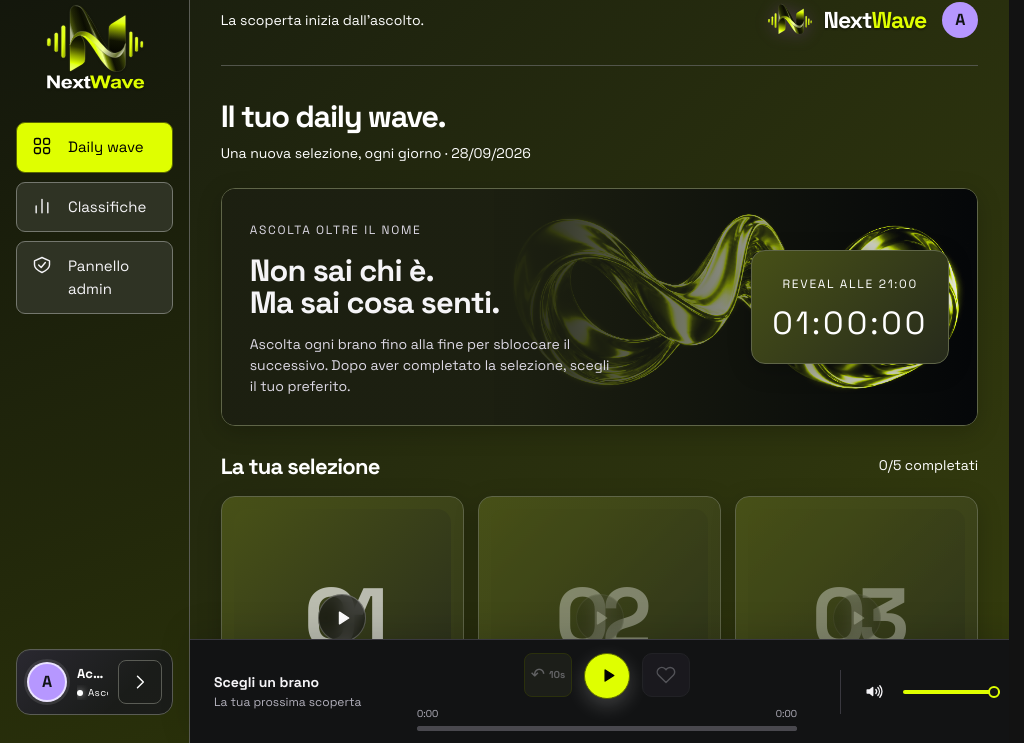
Test case: account cloud › elimina una candidatura senza audio solo dopo motivo e conferma
Expected: the navigation bar named "Navigazione principale" is shown, [16,122,173,314]
Expected: the heading "La tua selezione" is shown, [221,454,380,478]
Click the link "Pannello admin" at (94, 278), box [16,241,173,314]
(page scrolled)
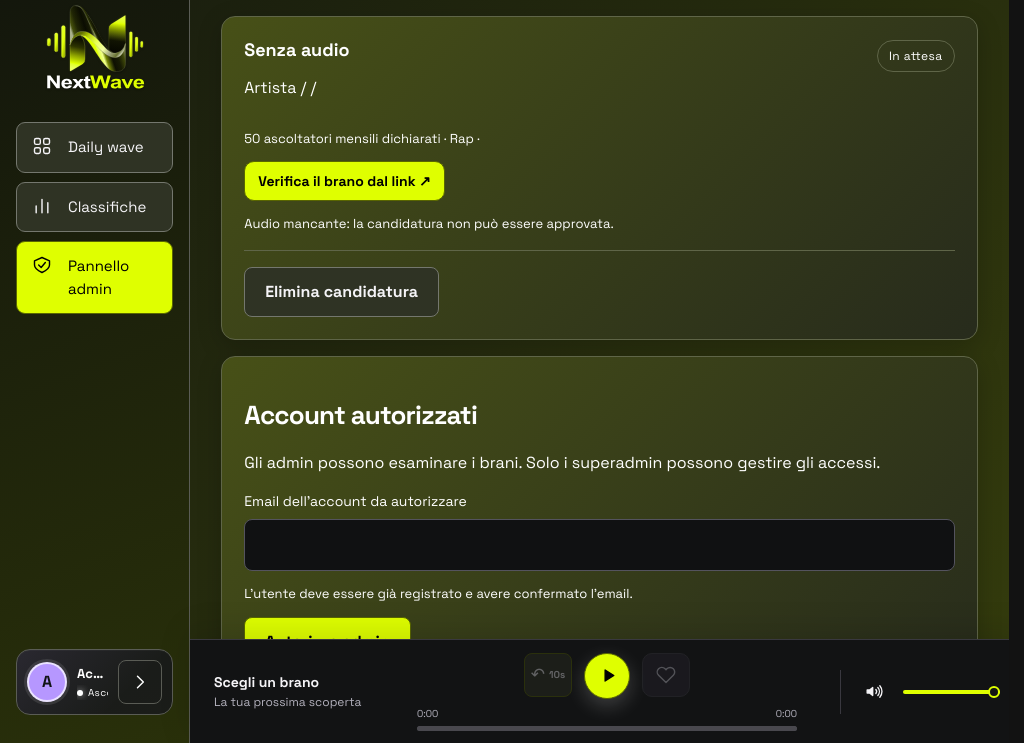
Expected: the text "Audio mancante: la candidatura non può essere approvata." is shown, [244,215,614,232]
Click the button "Elimina candidatura" at (342, 292), box [244,267,439,317]
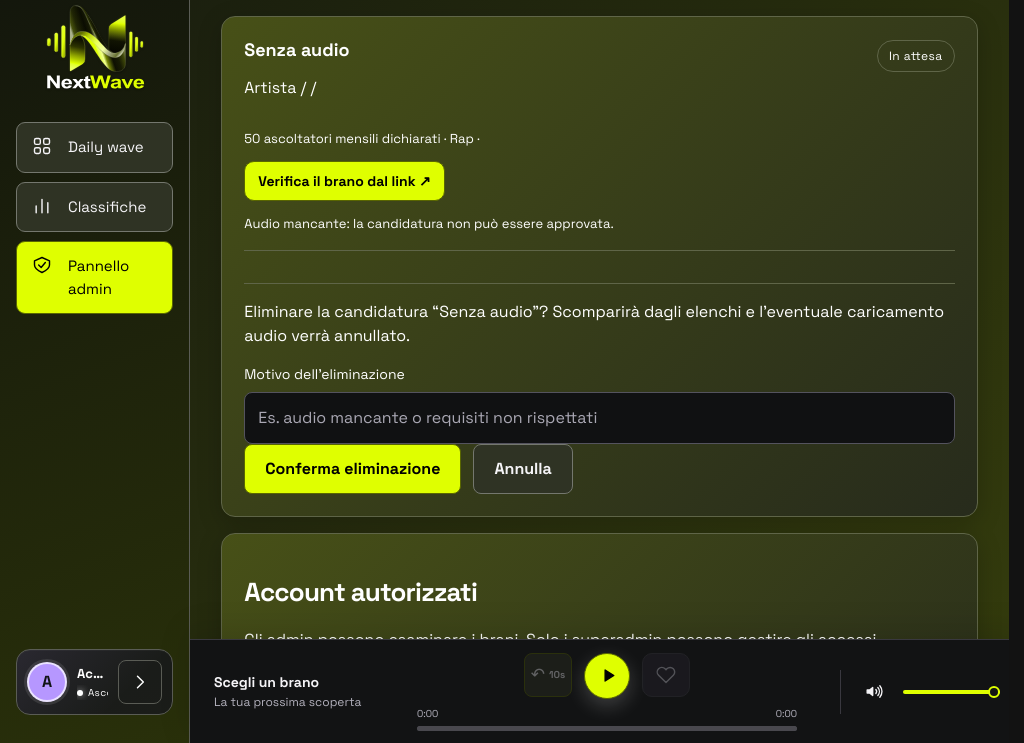
Expected: the button "Conferma eliminazione" is disabled, [244,444,461,494]
Type "Audio mancante" into the field labelled "Motivo dell’eliminazione" at (599, 418), box [244,392,955,444]
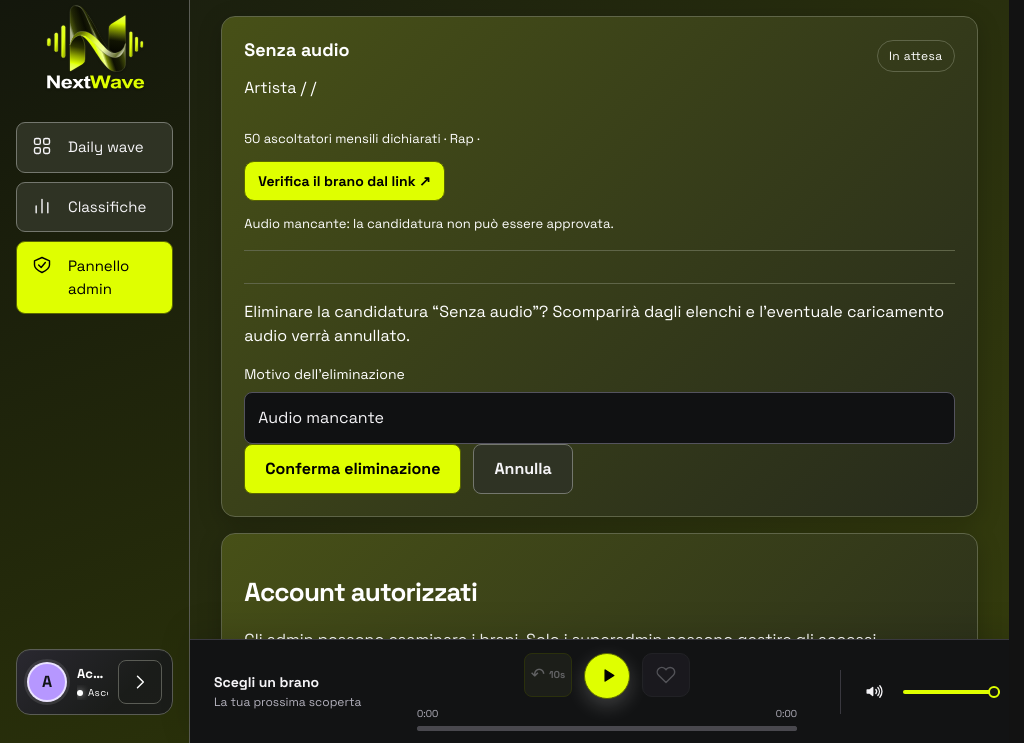
Click the button "Conferma eliminazione" at (353, 469), box [244,444,461,494]
(page scrolled)
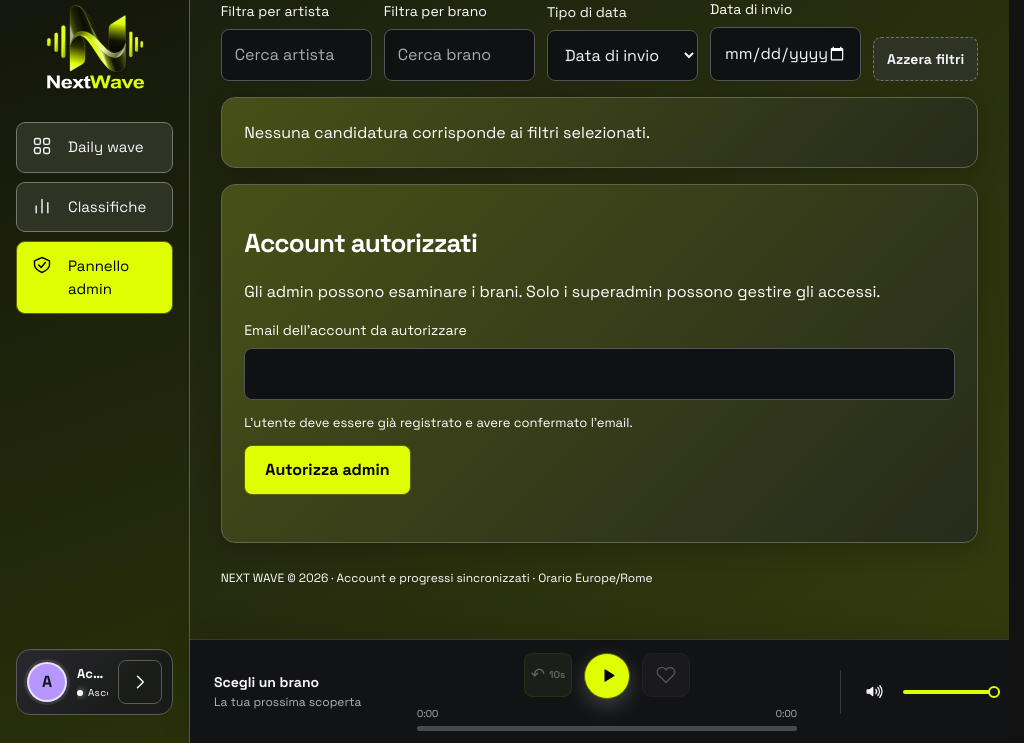
Expected: the heading "Senza audio" is gone
